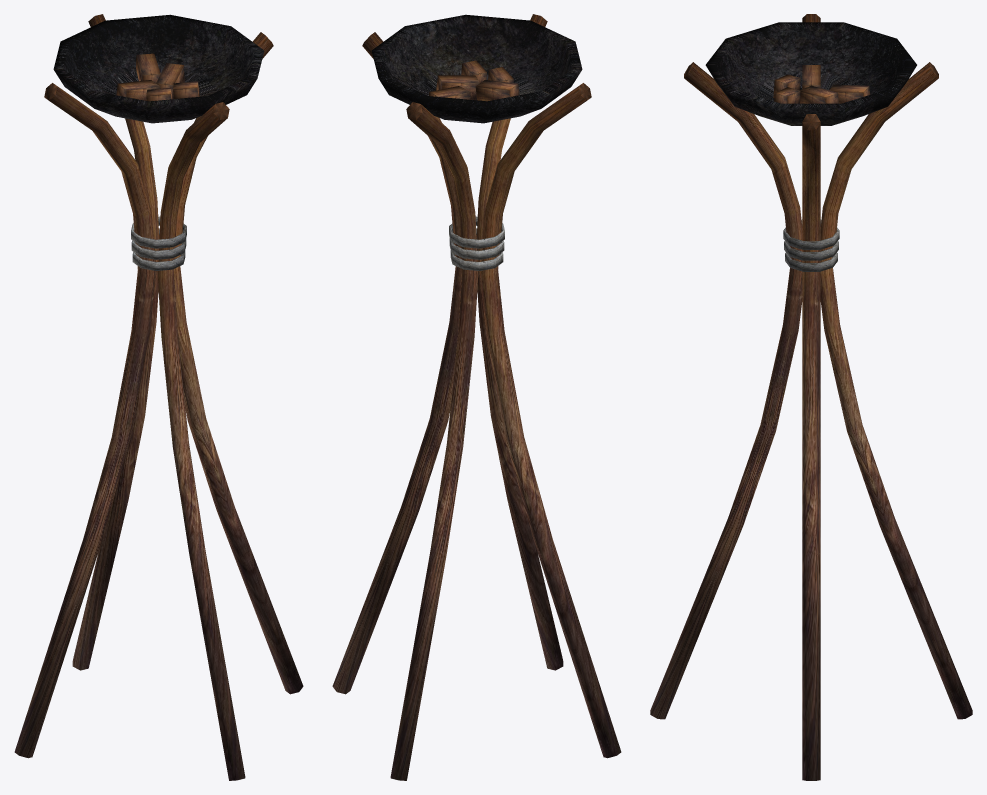
The model's file is Tocha do mau sem apoio.fbx.
3 views of the same model, side by side, from view 1: azimuth 30°, elevation 25°; view 2: azimuth 150°, elevation 25°; view 3: azimuth 270°, elevation 25° (orthographic).
Visible parts, largest first — view 1: Tocha do mau sem apoio; view 2: Tocha do mau sem apoio; view 3: Tocha do mau sem apoio.
Part boxes in pixels (left/top/right/bottom): Tocha do mau sem apoio: left=14, top=14, right=303, bottom=780; Tocha do mau sem apoio: left=332, top=14, right=621, bottom=780; Tocha do mau sem apoio: left=650, top=14, right=972, bottom=780.
Bounding box in the file's own units: 3.04 × 6.81 × 3.04.
